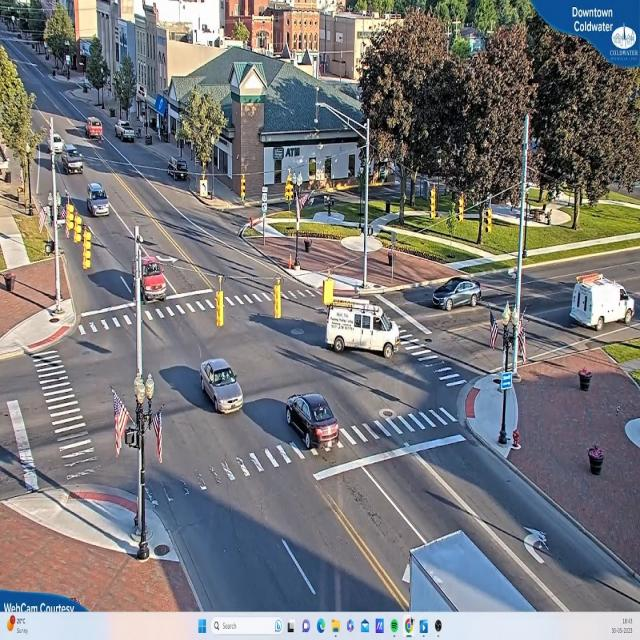car: (286, 394, 341, 452), (200, 359, 244, 416), (136, 251, 168, 304), (433, 279, 481, 310), (86, 181, 109, 216), (117, 122, 138, 144)
truck: (327, 299, 402, 358)
